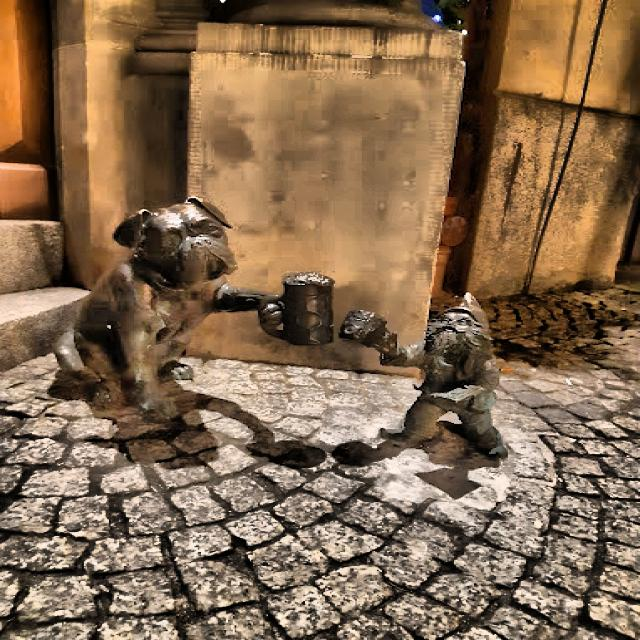Piwozlopek_ i_Piesel_Piwosz: (55, 197, 332, 417), (340, 294, 507, 457)
